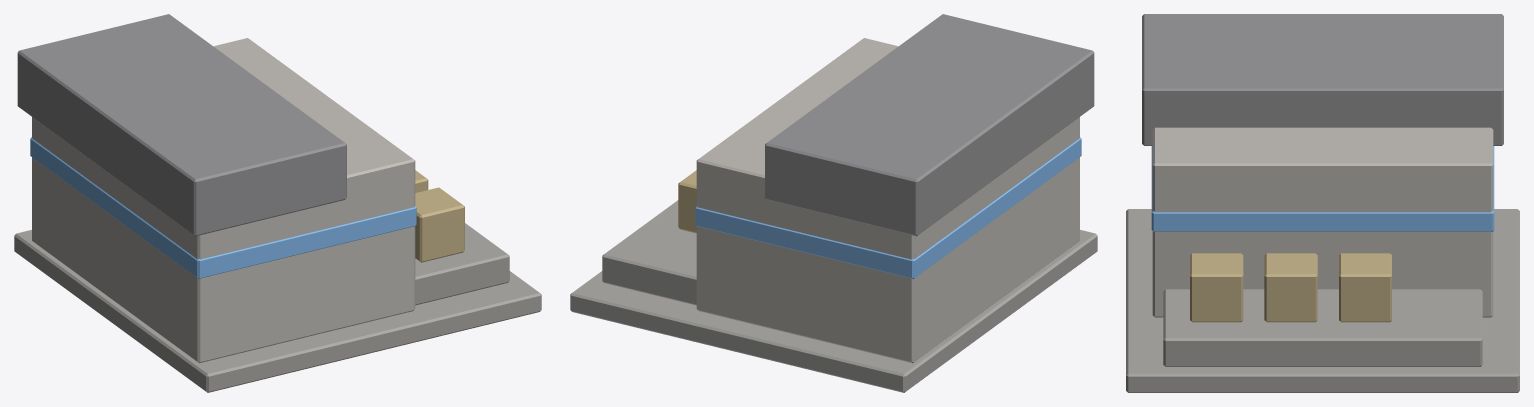
File: supply_depot.glb
The picture shows the model from 3 angles, left to right: view 1: azimuth 30°, elevation 25°; view 2: azimuth 150°, elevation 25°; view 3: azimuth 270°, elevation 25°; orthographic projection.
Visible parts, largest first — view 1: supply_depot; view 2: supply_depot; view 3: supply_depot.
Part boxes in pixels (<box>): supply_depot: <box>14,14,541,392</box>; supply_depot: <box>570,14,1097,392</box>; supply_depot: <box>1126,14,1519,392</box>.
Size of the model in its own units: 3.75 by 2.2 by 3.7.
